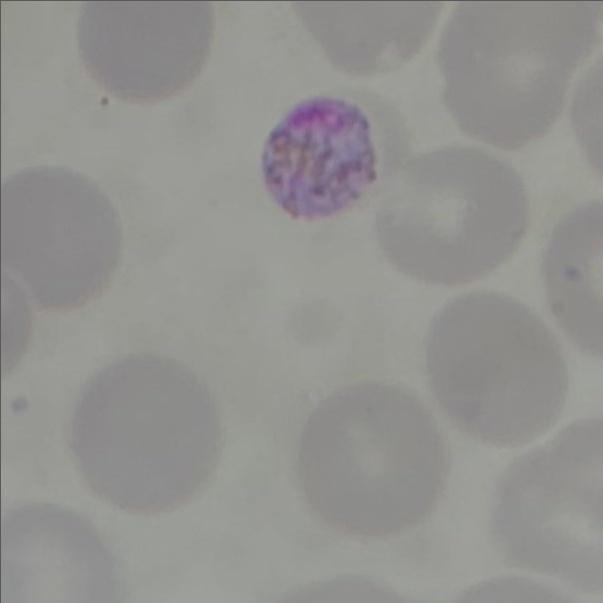Infected: (258, 84, 395, 222)
Uninfected: (298, 384, 451, 539), (438, 0, 603, 142), (72, 356, 223, 509), (378, 142, 529, 288), (430, 291, 568, 443), (488, 414, 603, 593), (0, 169, 122, 313), (78, 0, 217, 105)
